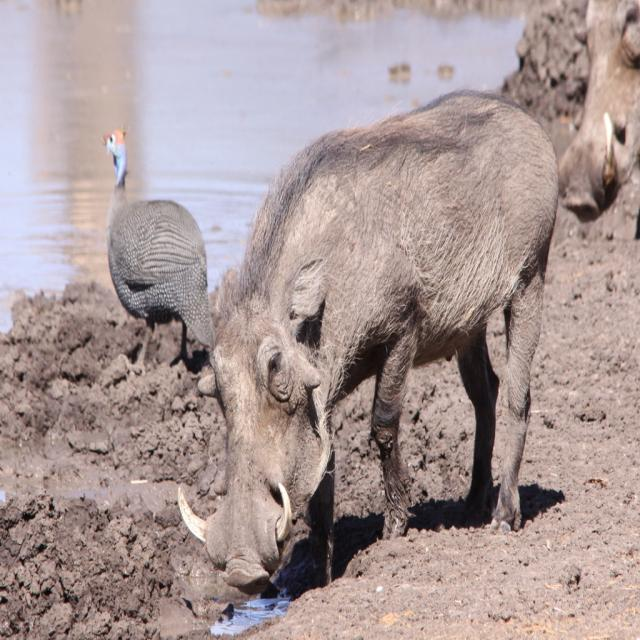Pig: (177, 89, 559, 594), (557, 0, 640, 237)
